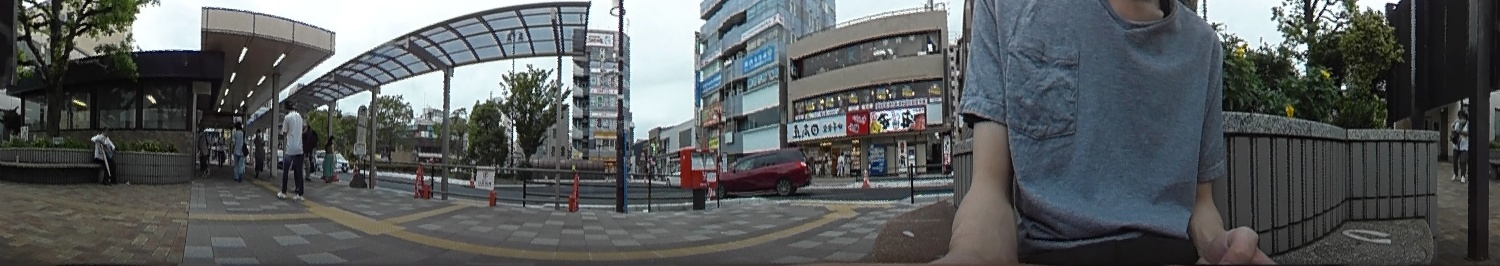difficult_person: (303, 117, 316, 180), (232, 121, 245, 181), (196, 127, 211, 173), (251, 126, 265, 175), (325, 134, 337, 179)
person: (276, 98, 306, 198), (87, 125, 119, 185), (1446, 109, 1470, 182)
